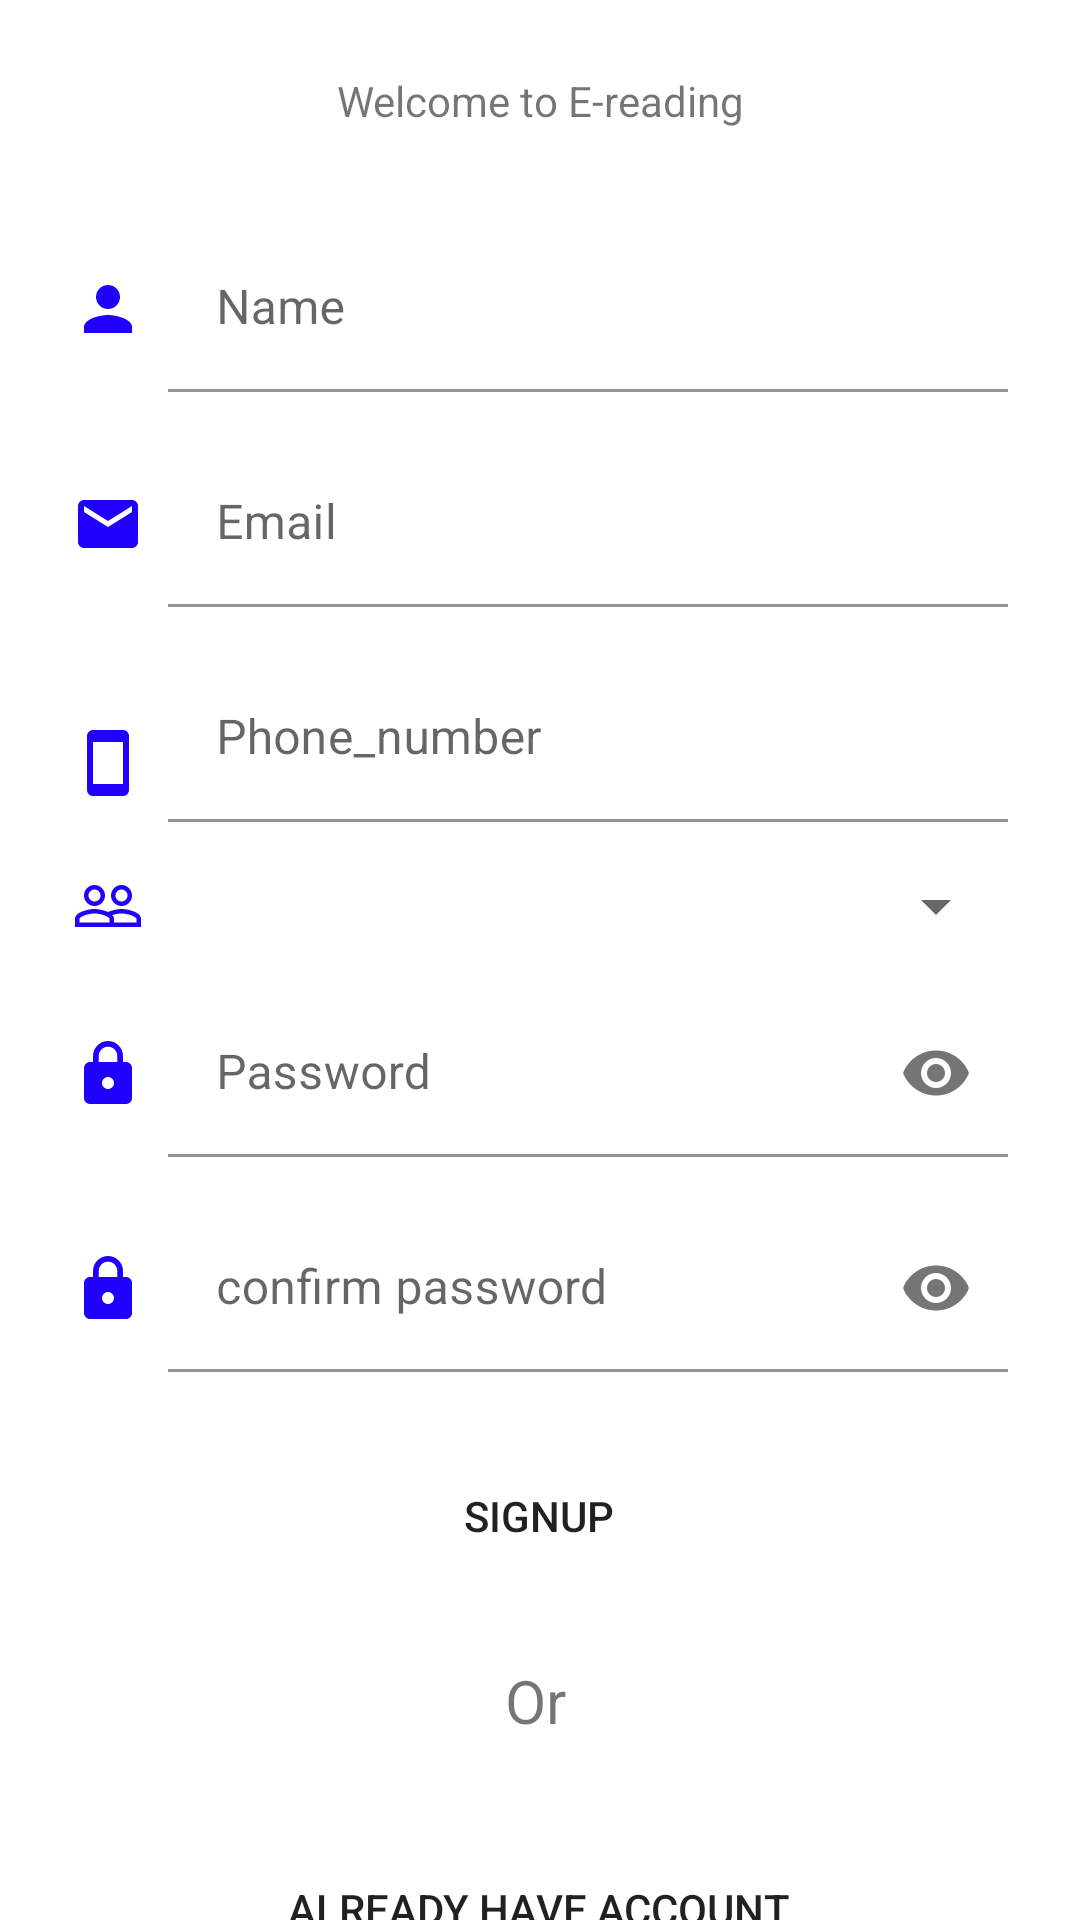

Named icons in this screenshot (1080w x 1920h) and their centers, (x,y):
lock: (108,1072), (108,1287)
people: (108,906)
person: (108,309)
stay current portrait: (108,763)
